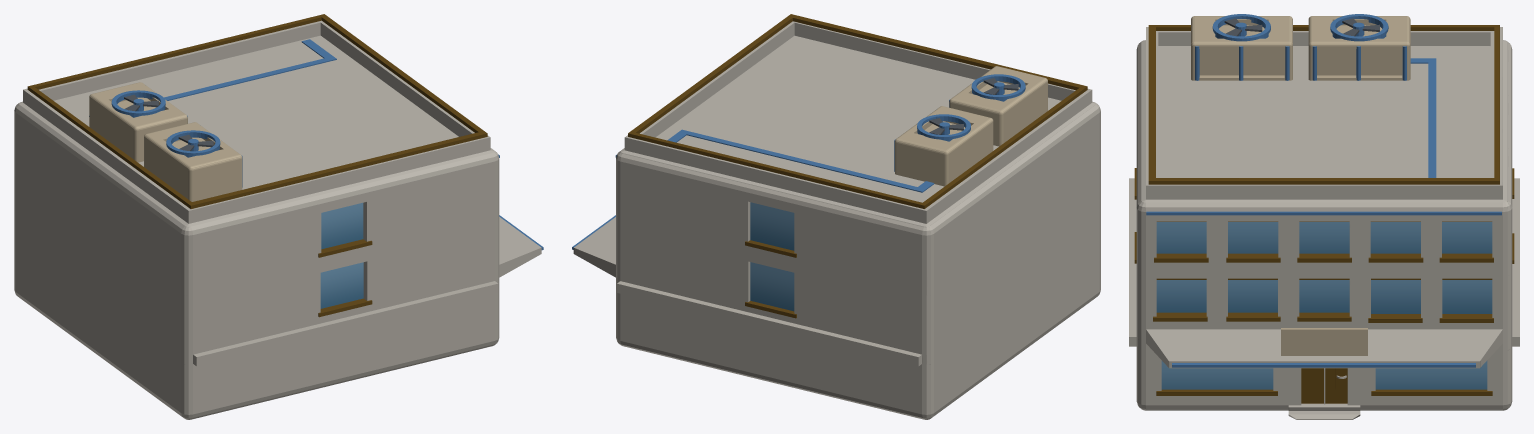
Rendered from CUPIC_HOSTEL.gltf.
3 views of the same model, side by side, from view 1: azimuth 30°, elevation 25°; view 2: azimuth 150°, elevation 25°; view 3: azimuth 270°, elevation 25° (orthographic). The views are drawn at different scales.
Visible parts, largest first — view 1: node-0; view 2: node-0; view 3: node-0.
Boxes of the visible parts, bbox=[...] form: node-0: bbox=[14, 14, 543, 419]; node-0: bbox=[572, 14, 1100, 419]; node-0: bbox=[1129, 14, 1519, 419].
Bounding box in the file's own units: 395 × 236 × 332.
1 material, 1 textured.
